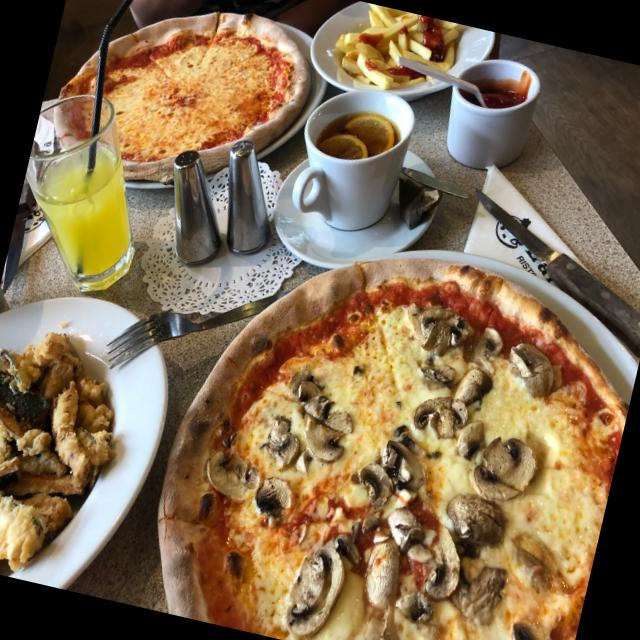mushrooms: (274, 368, 360, 467), (273, 535, 351, 640), (404, 356, 490, 450), (466, 428, 544, 512), (352, 526, 418, 618), (438, 488, 508, 553), (414, 522, 469, 602), (501, 333, 564, 402), (202, 442, 266, 508), (446, 552, 504, 619), (372, 432, 433, 493), (414, 300, 472, 364), (258, 411, 305, 476), (379, 504, 427, 560), (352, 459, 396, 514), (453, 416, 492, 468), (329, 528, 371, 572), (474, 322, 506, 366), (491, 615, 546, 640)
pizza: (156, 256, 627, 640), (101, 12, 310, 163)
